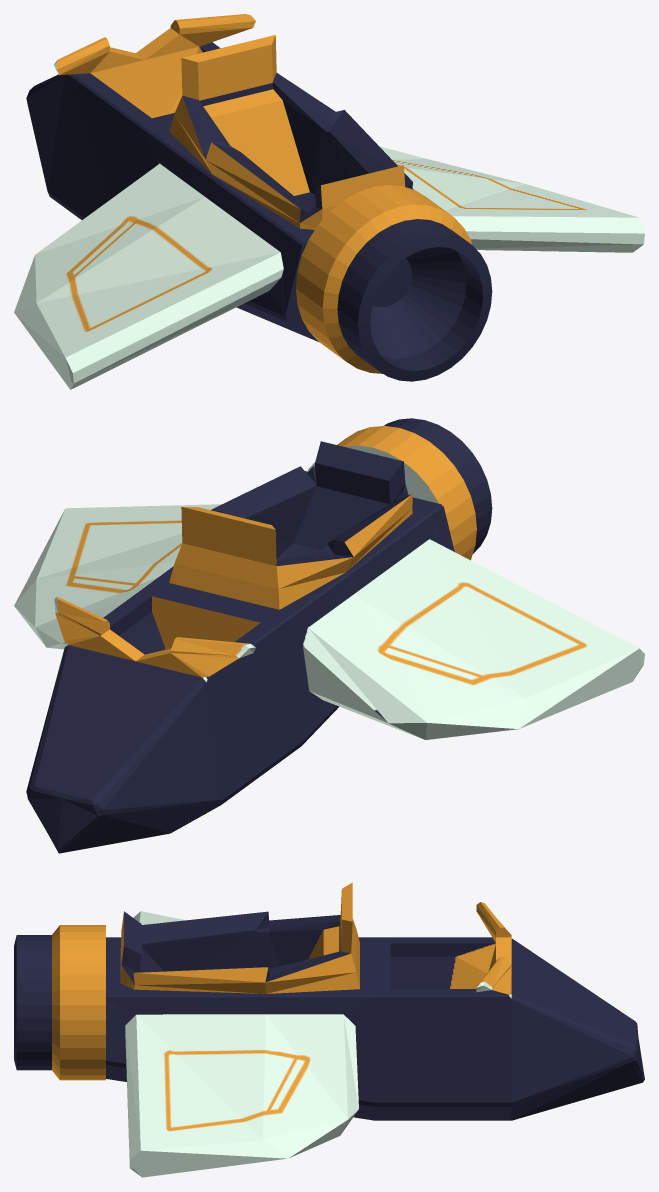
File: hoverglider.fbx
3 views of the same model, one above another, from view 1: azimuth 30°, elevation 25°; view 2: azimuth 150°, elevation 25°; view 3: azimuth 270°, elevation 25° (orthographic). The views are drawn at different scales.
Visible parts, largest first — view 1: Hoverbike; view 2: Hoverbike; view 3: Hoverbike.
Boxes of the visible parts, x1,y1,x2,y2 form: Hoverbike: (14, 14, 644, 389); Hoverbike: (14, 418, 644, 853); Hoverbike: (14, 882, 644, 1177).
Bounding box in the file's own units: 4.86 × 5.41 × 1.95.
